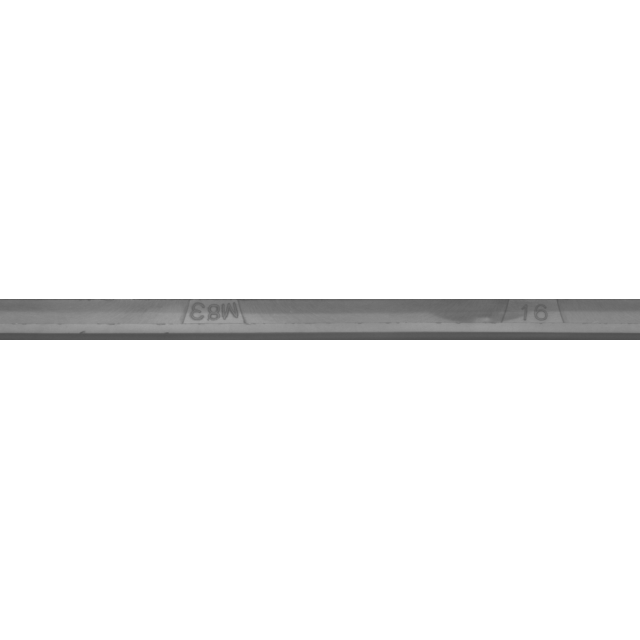mohao: (118, 270, 318, 370)
xuehao: (439, 270, 639, 370)
